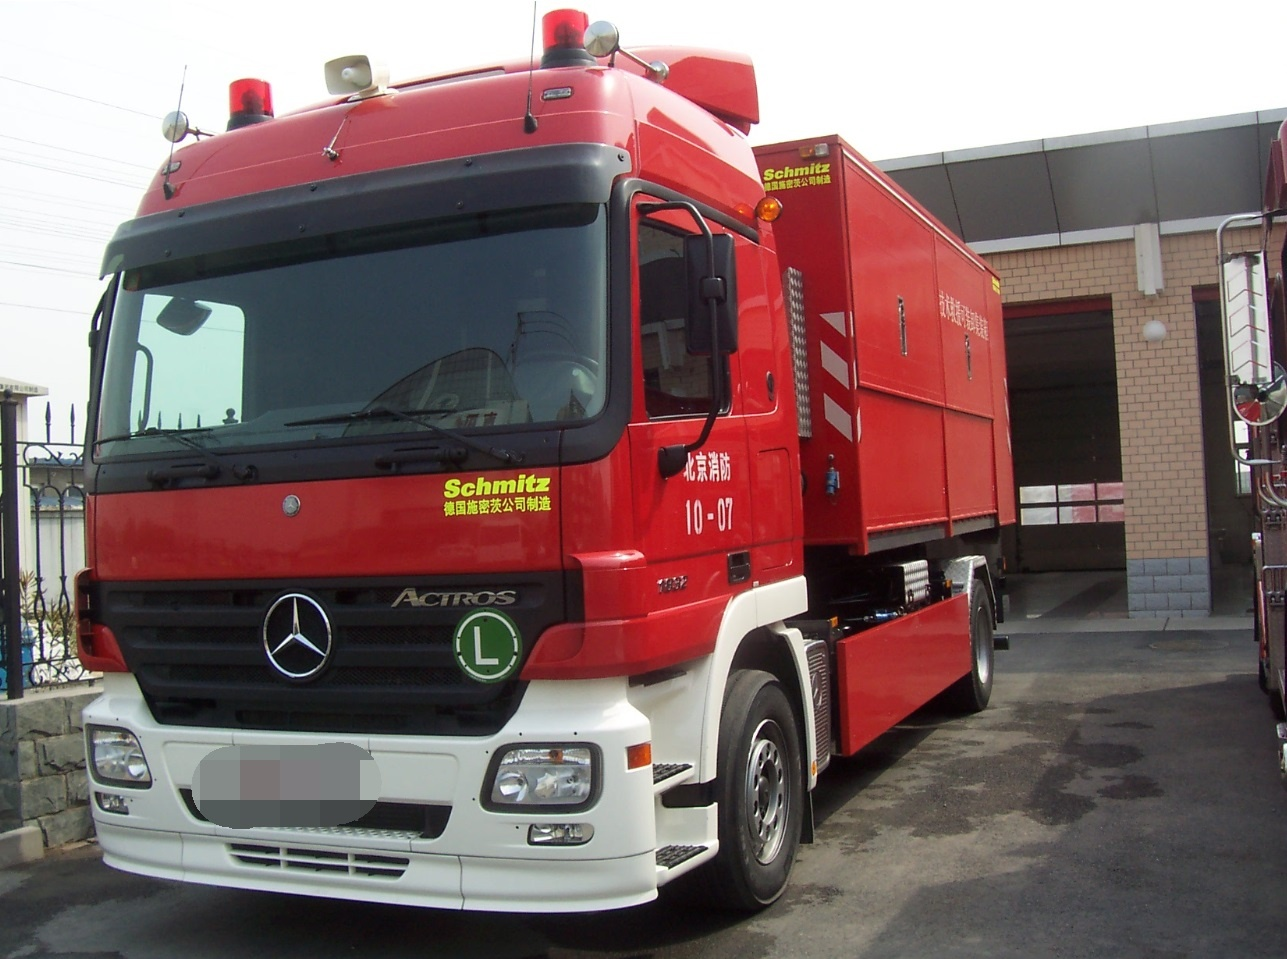fire engine: (54, 18, 1032, 917)
